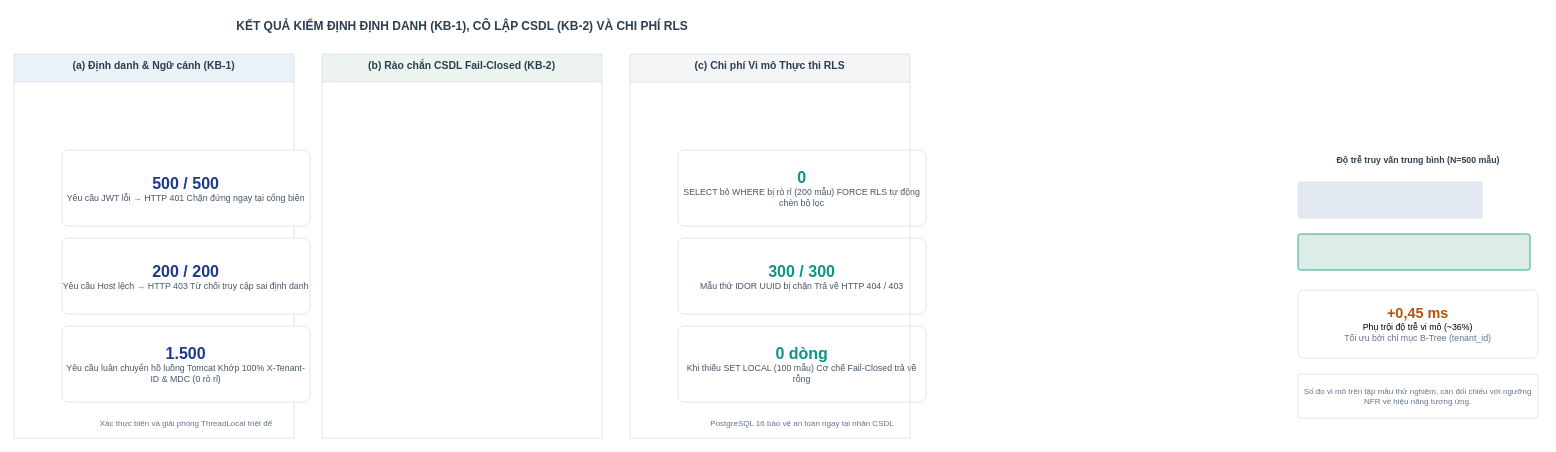
Image size: 1556x452. Some labels were removed from this diagram. Each missing label, with the centre of its shape:
"Có RLS (SET LOCAL + FORCE RLS): 1,70 ms" goes at (x=1413, y=251).
"Không RLS (WHERE thủ công): 1,25 ms" goes at (x=1389, y=199).
